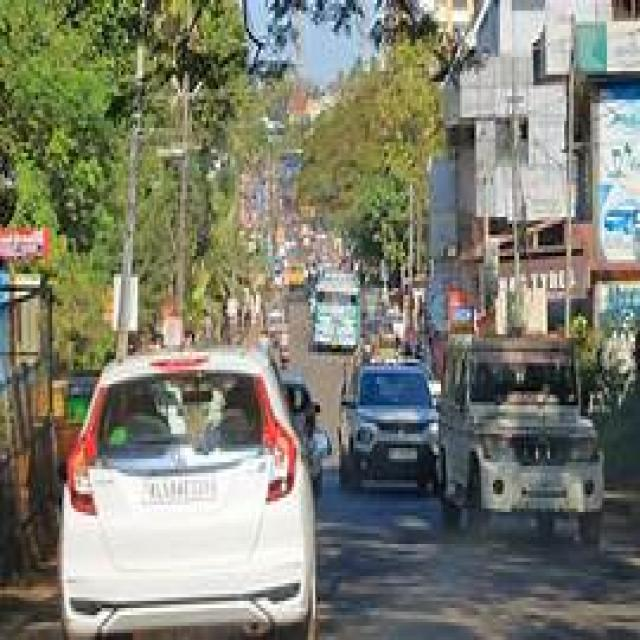Bus: (313, 278, 359, 348)
Car: (60, 347, 314, 638), (343, 368, 439, 485)
